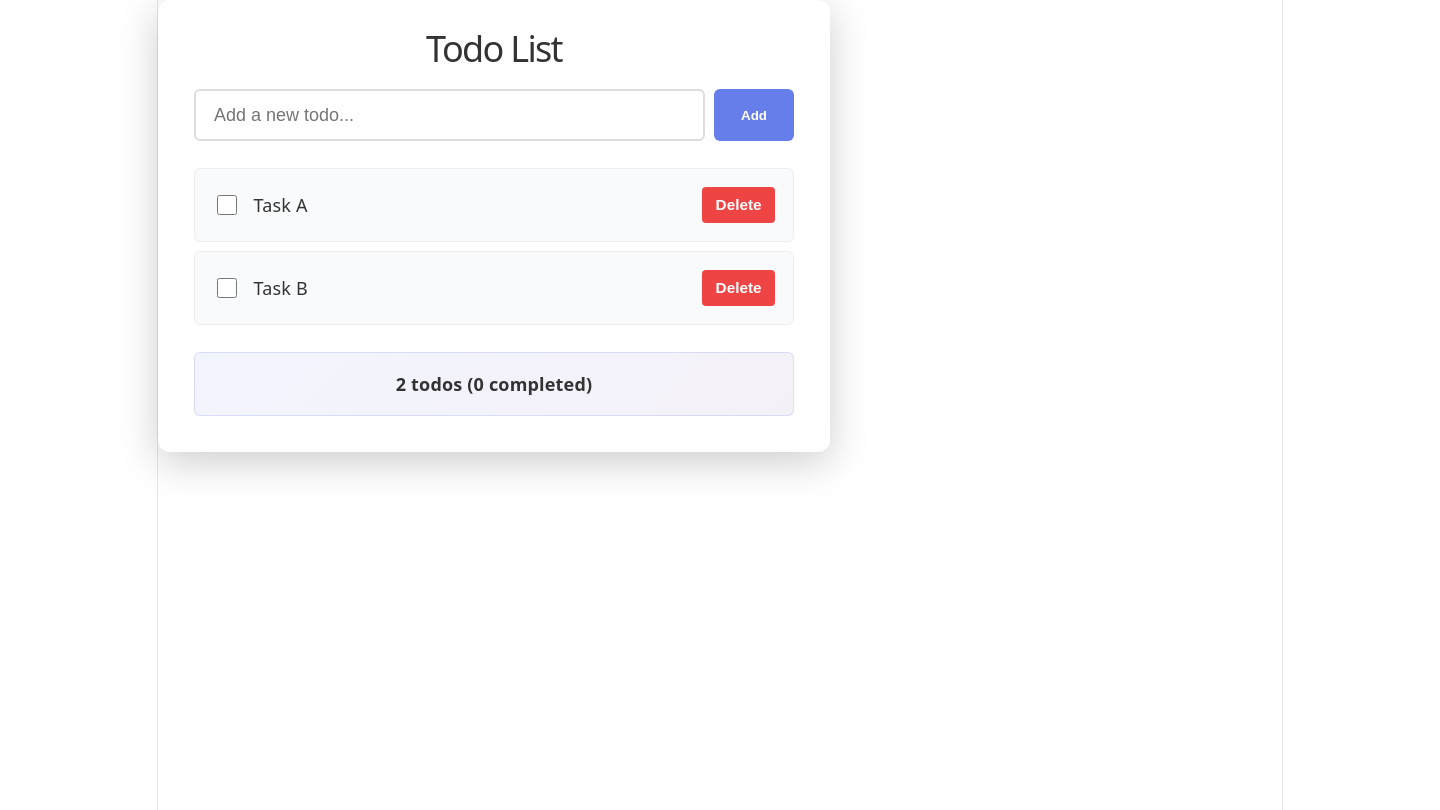
Test: TodoList Component › Counter › updates completed count when toggling
Click the checkbox with test id "todo-checkbox" next to "Task A": (227, 205) [217,195,237,215]
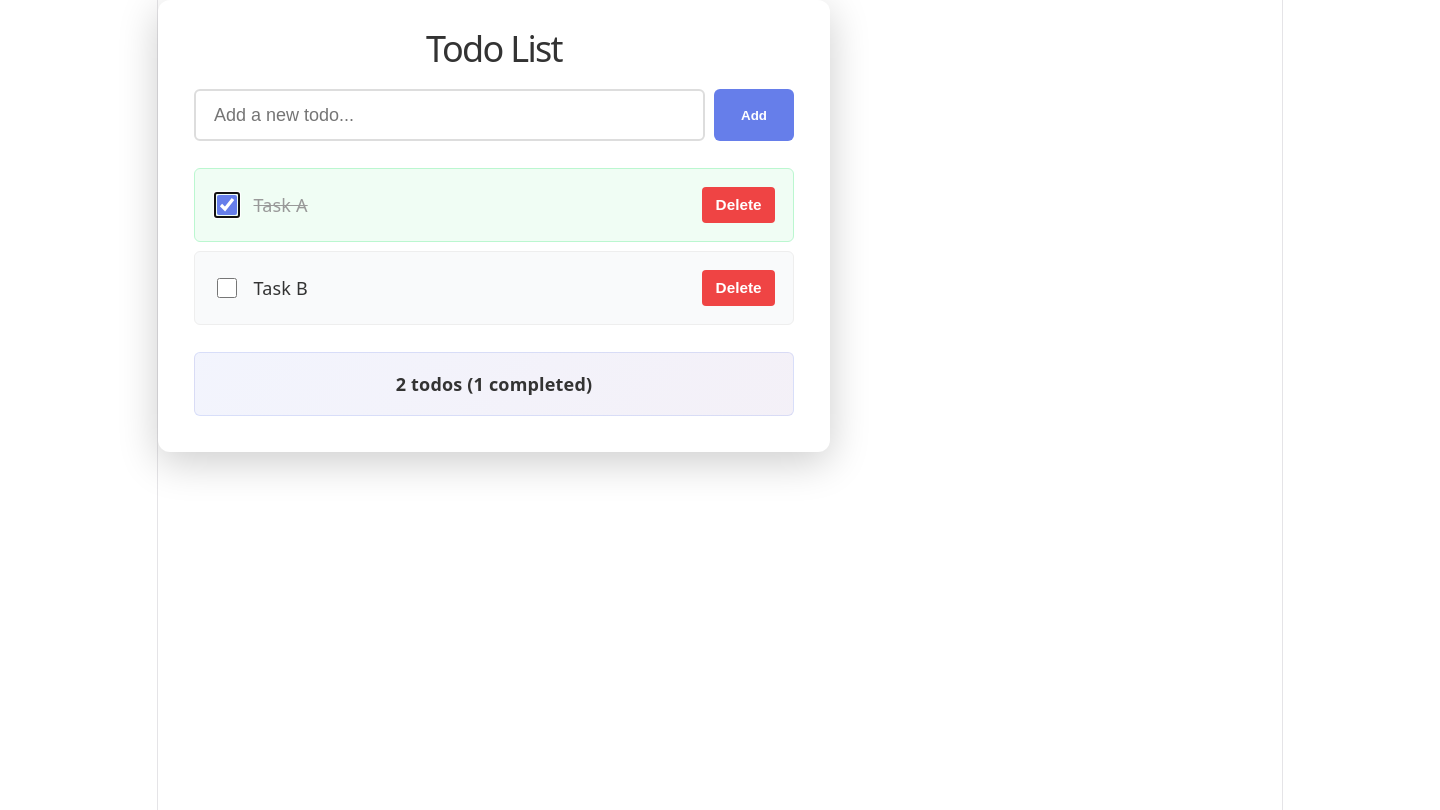
Now the text with test id "todo-count" reads "2 todos (1 completed)", box [194,352,794,416]
